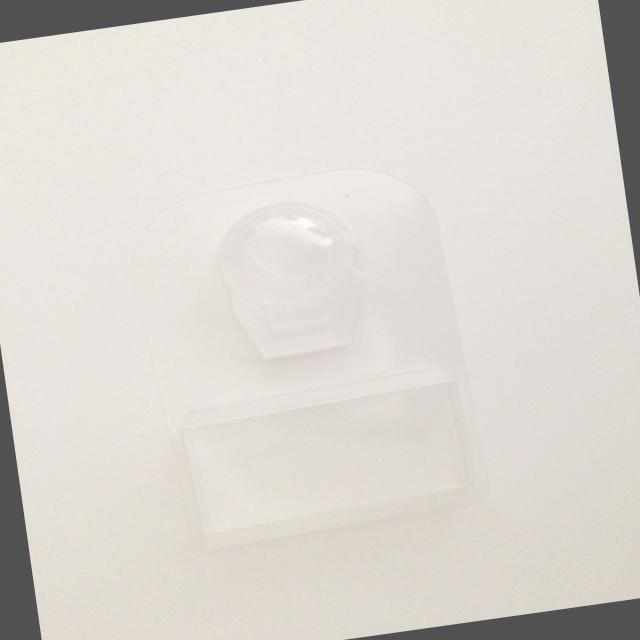Plastic: (95, 133, 542, 597)
